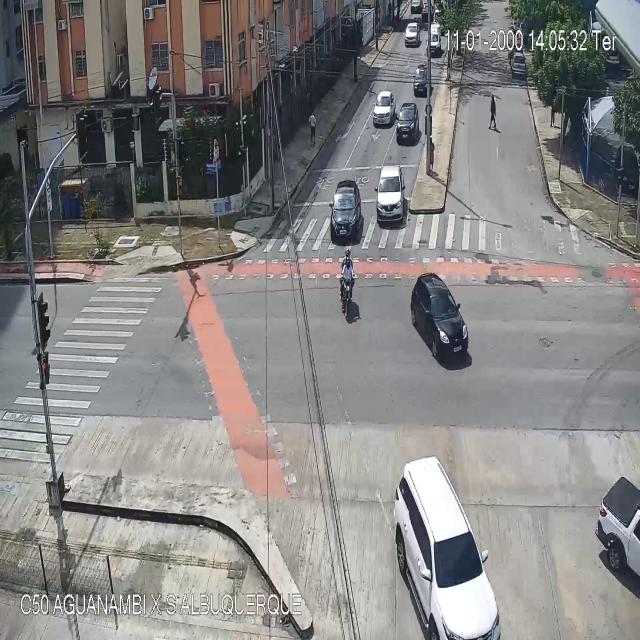Car: (395, 457, 499, 639), (411, 272, 470, 364), (595, 480, 640, 577), (374, 163, 407, 227), (330, 180, 363, 238), (396, 99, 420, 143), (372, 89, 393, 127), (413, 65, 430, 97), (426, 26, 442, 56), (511, 52, 526, 78), (404, 23, 420, 46), (421, 4, 432, 20), (412, 1, 424, 13)
Motorcycle: (341, 250, 355, 320)
